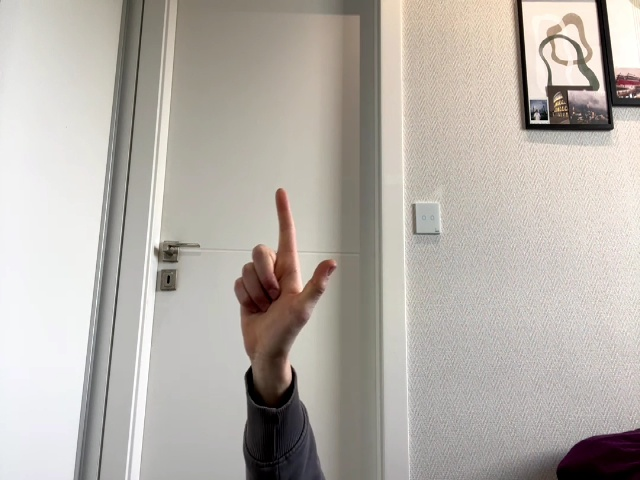L: (234, 188, 337, 380)
